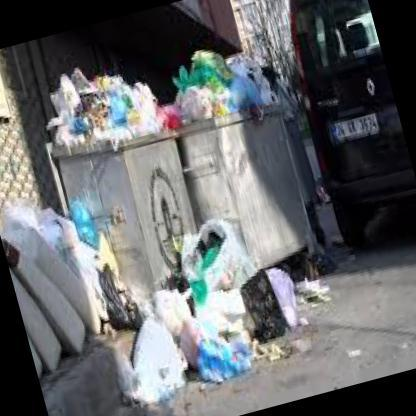Garbage: (152, 278, 314, 410), (31, 47, 172, 162), (178, 210, 272, 376), (66, 187, 138, 351), (107, 319, 215, 415), (160, 36, 274, 126), (95, 257, 162, 346), (149, 259, 200, 342), (288, 258, 337, 334), (42, 74, 88, 124), (180, 70, 223, 120), (130, 77, 166, 121)
